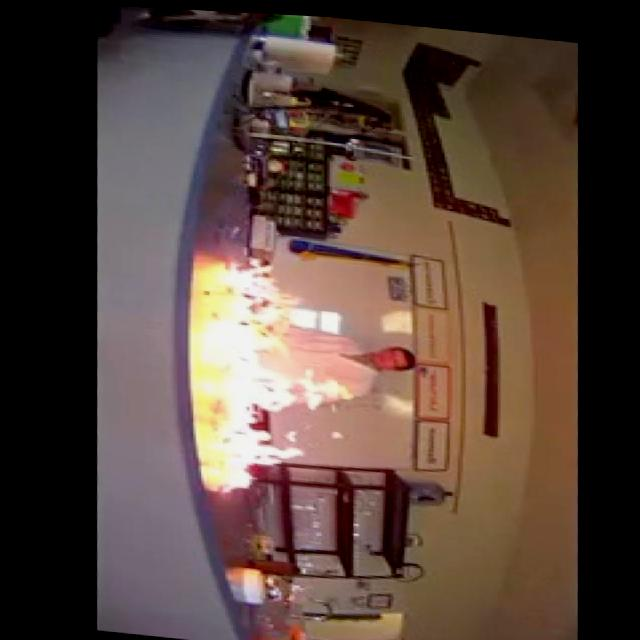Fire: (201, 251, 331, 509)
